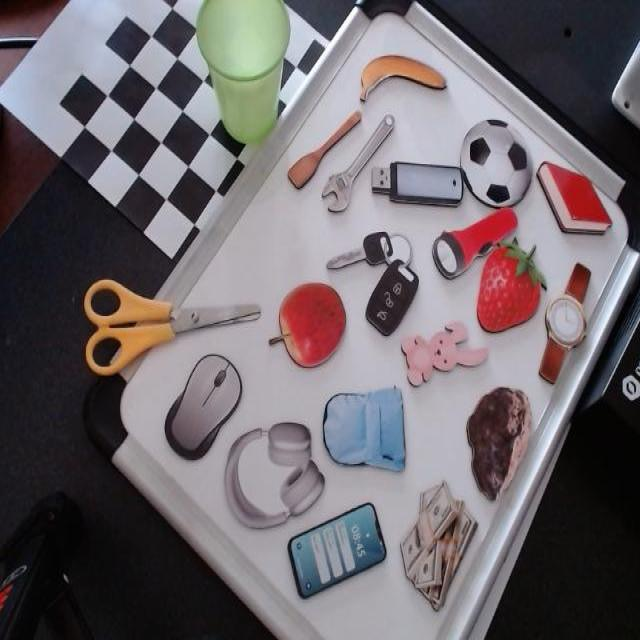Other Objects: (83, 279, 260, 376), (324, 198, 434, 345), (214, 406, 328, 542), (447, 367, 546, 506), (387, 472, 482, 611), (153, 342, 249, 472), (448, 105, 542, 226), (283, 496, 388, 600), (266, 265, 353, 381), (426, 186, 519, 285), (321, 386, 406, 476), (321, 112, 394, 213), (538, 258, 591, 387), (399, 311, 487, 387), (286, 109, 361, 189), (355, 46, 446, 103), (371, 159, 463, 207)
